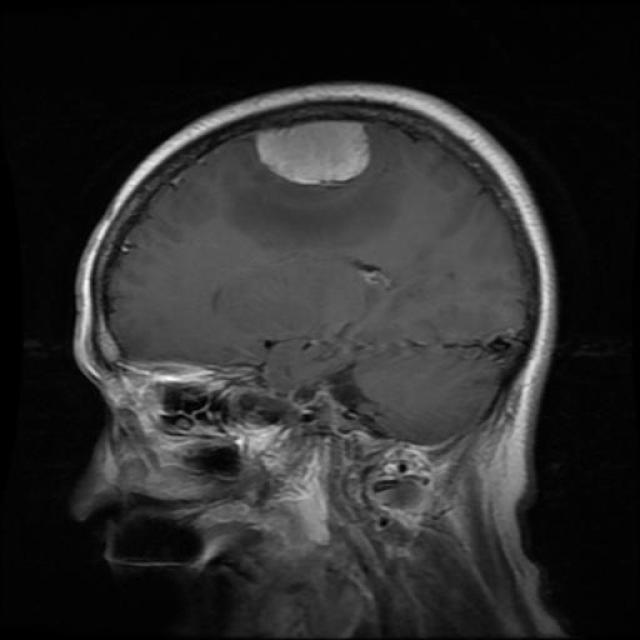Meningioma: (255, 121, 370, 182)
